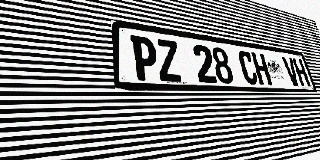2: (192, 44, 217, 83)
8: (210, 46, 234, 84)
C: (237, 50, 259, 85)
H: (251, 52, 272, 85), (292, 58, 311, 86)
P: (130, 35, 159, 81)
V: (282, 57, 301, 86)
Z: (155, 39, 183, 82)
